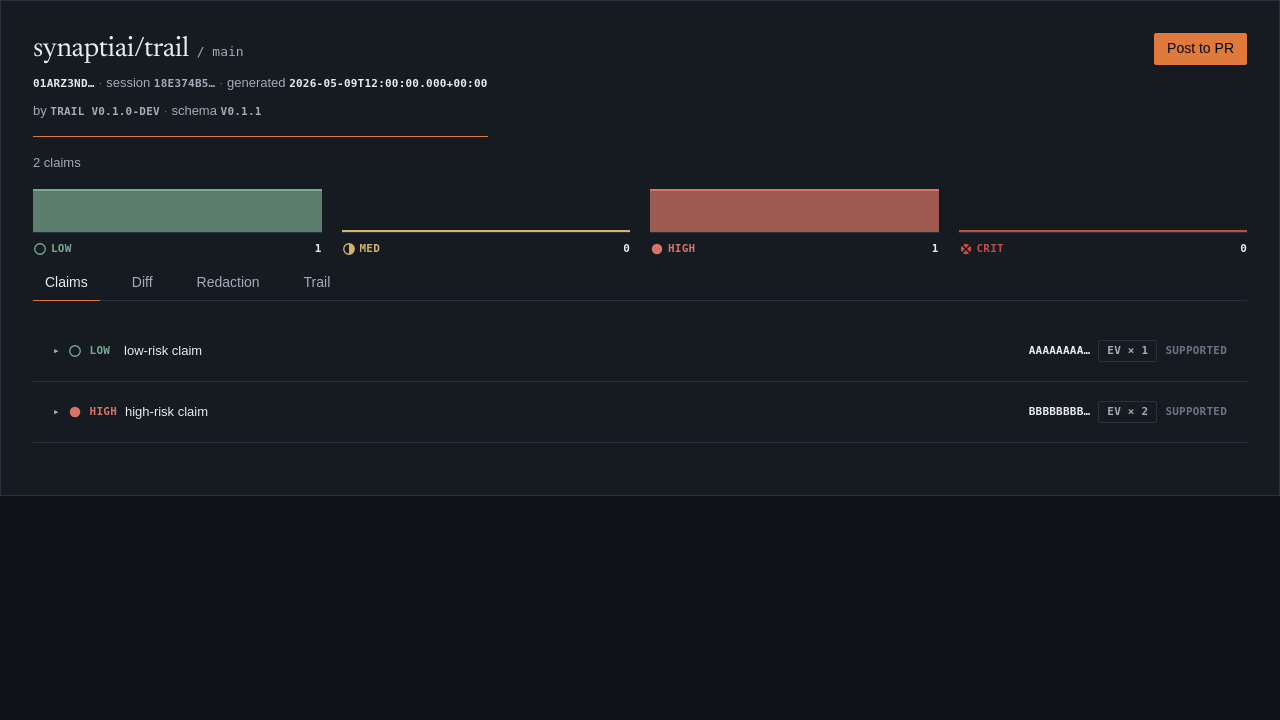
Test: <PacketView> — Sprint 3a integration › Diff tab renders DiffTab body with one hunk per semantic_change (Sprint 3b)
What coordinates should you click on to do the following:
click the tab "Diff"
I would click on:
 (142, 282)
Its box is 120,265 -> 165,300.
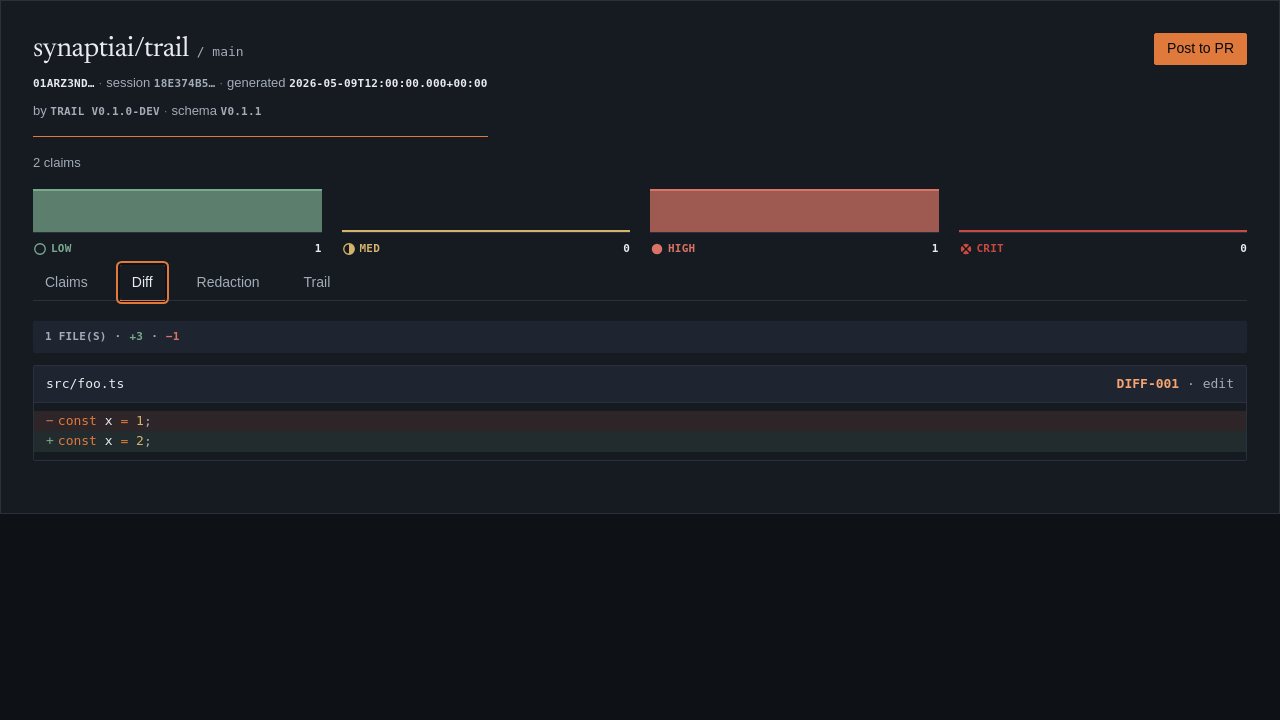
Expected: the element named "Diff hunk: src/foo.ts" is shown, 33,365 -> 1247,461
